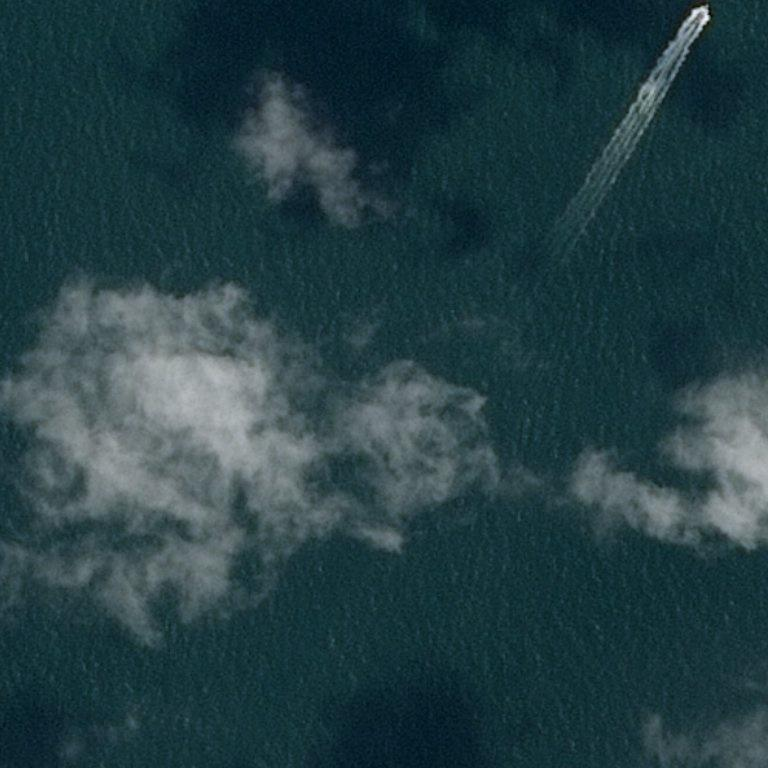ship: (692, 7, 709, 28)
